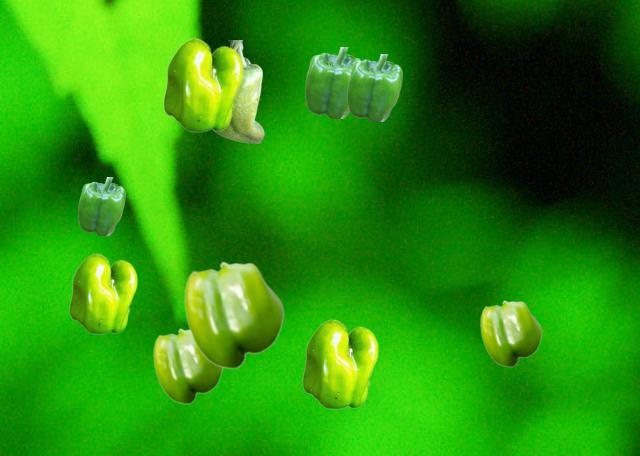bell_pepper: (184, 261, 283, 368), (163, 38, 242, 131), (302, 319, 377, 408), (69, 253, 136, 333), (153, 328, 222, 403), (215, 40, 263, 142), (480, 300, 541, 366), (305, 47, 360, 117), (347, 54, 401, 120), (78, 177, 124, 234)
